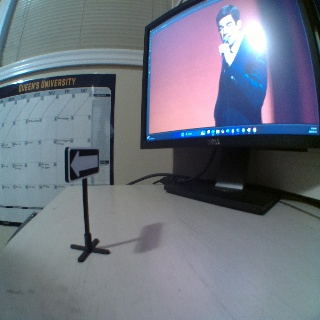sign_oneway_left: (64, 145, 100, 181)
